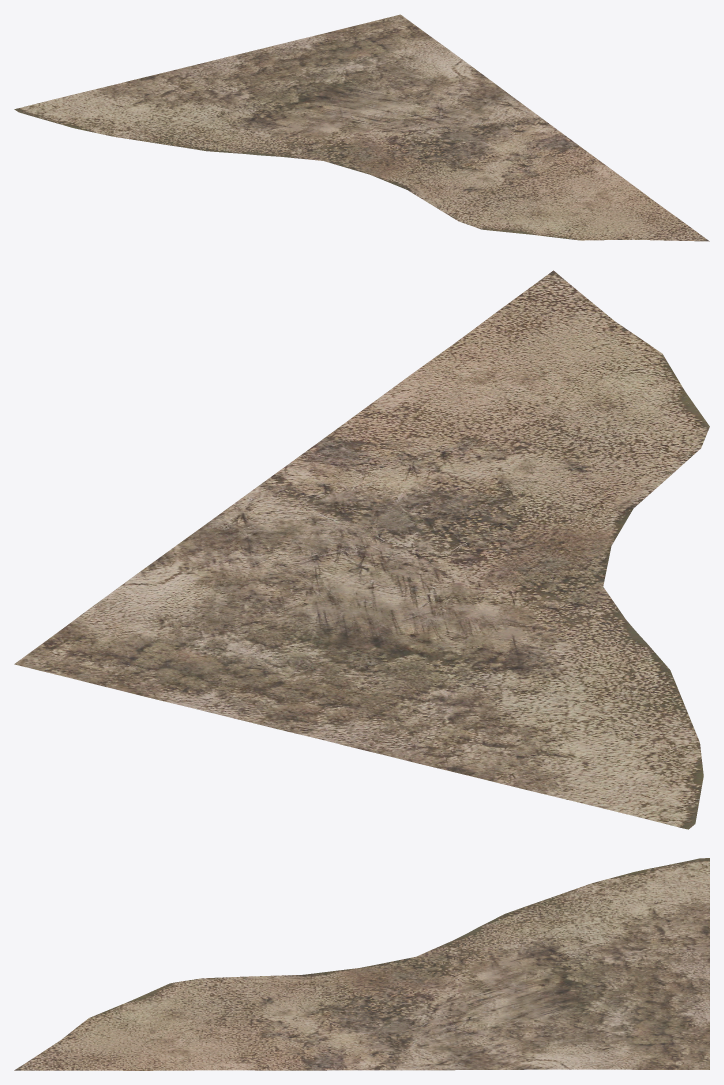
The model's file is CM_Terrain_24490254_6819180.fbx.
The picture shows the model from 3 angles, top to bottom: view 1: azimuth 30°, elevation 25°; view 2: azimuth 150°, elevation 25°; view 3: azimuth 270°, elevation 25°; orthographic projection. The views are drawn at different scales.
Visible parts, largest first — view 1: CM_Terrain_24490254_6819180_LOD0; view 2: CM_Terrain_24490254_6819180_LOD0; view 3: CM_Terrain_24490254_6819180_LOD0.
Part boxes in pixels (box(x1,y1,x2,y2)): CM_Terrain_24490254_6819180_LOD0: box(14, 14, 709, 241); CM_Terrain_24490254_6819180_LOD0: box(14, 270, 709, 829); CM_Terrain_24490254_6819180_LOD0: box(14, 858, 709, 1070).
Size of what is drawn, in the model's own units: 147 by 0.4352 by 204.
